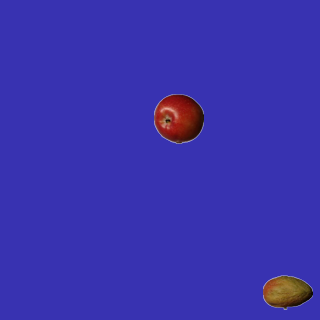Apple Braeburn: (153, 93, 203, 143)
Papaya: (262, 267, 312, 317)
